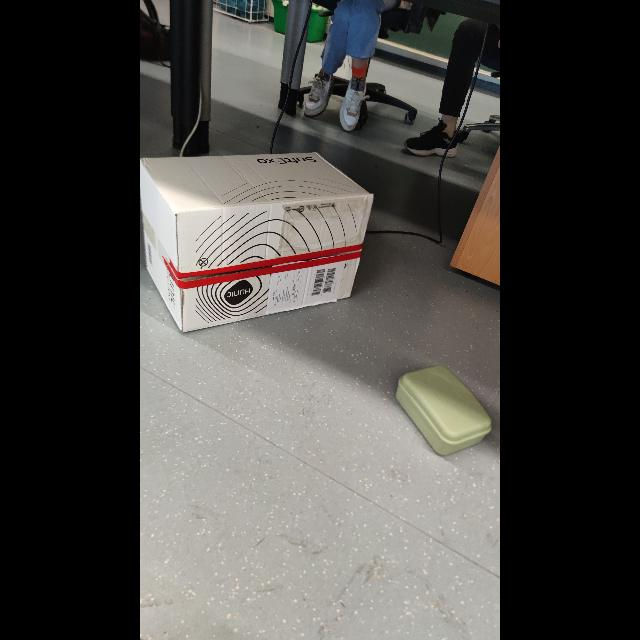cardboard_box: (140, 143, 382, 340), (382, 340, 500, 480)
